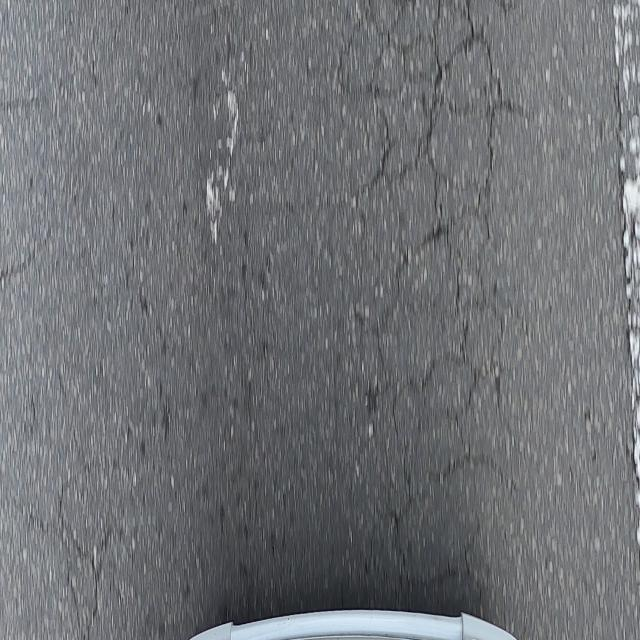Retak-Buaya: (330, 0, 514, 589)
